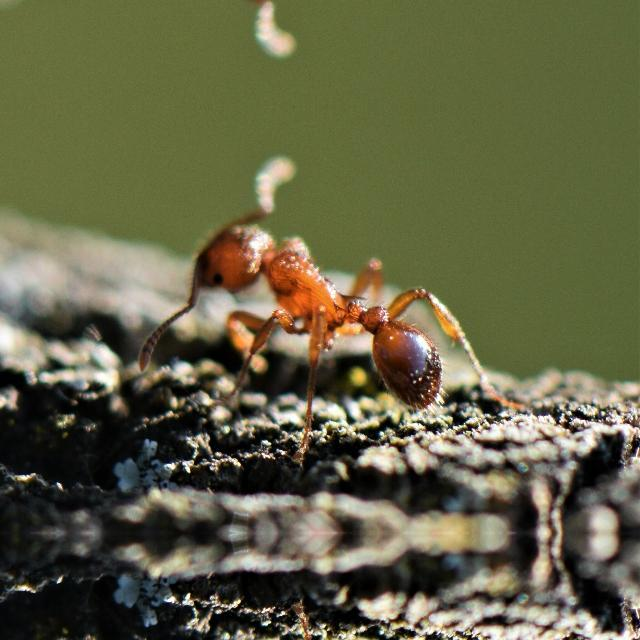Myrmica: (155, 186, 509, 426)
